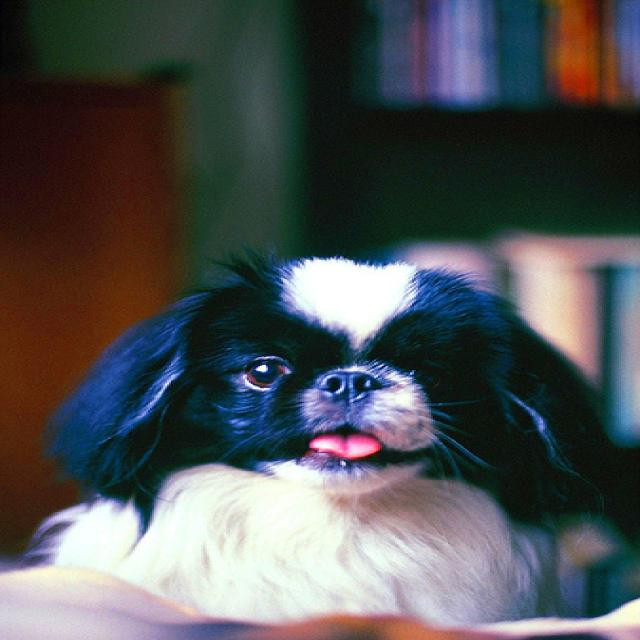dog-japanese_chin: (2, 242, 636, 637)
